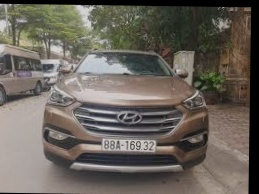Bien-so: (107, 138, 162, 154)
